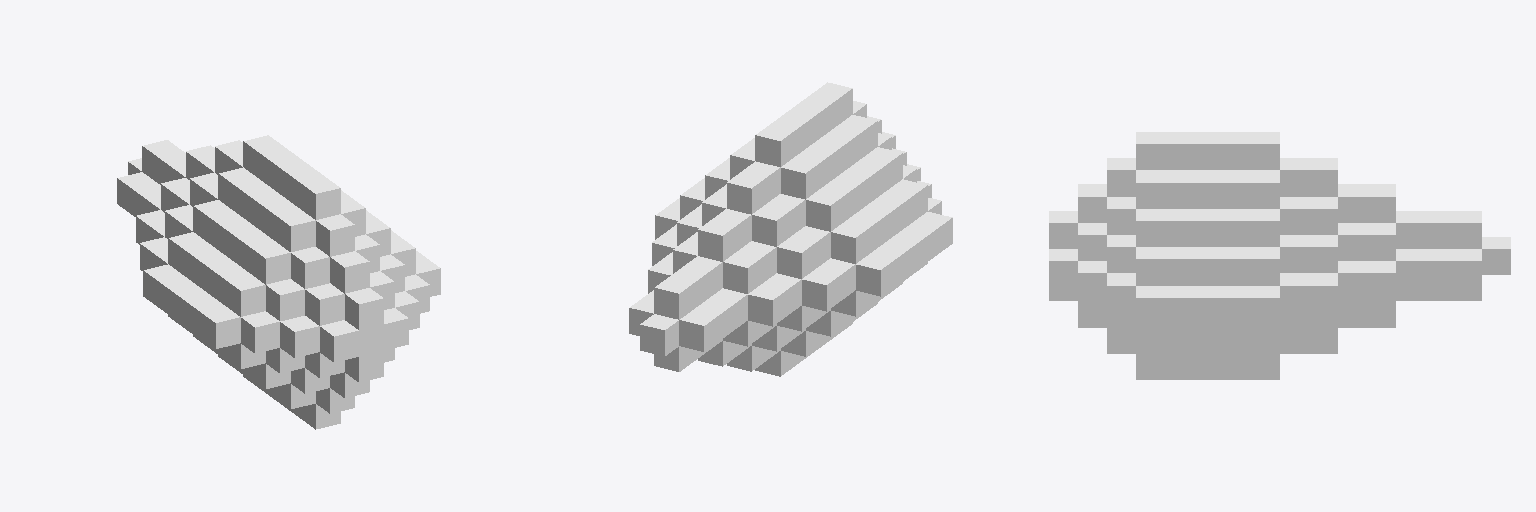
The model's file is acid.obj.
3 renders of one model, left to right at view 1: azimuth 30°, elevation 25°; view 2: azimuth 150°, elevation 25°; view 3: azimuth 270°, elevation 25°, orthographic.
Visible parts, largest first — view 1: object 1; view 2: object 1; view 3: object 1.
Boxes of the visible parts, <box> form: object 1: <box>117,135,440,429</box>; object 1: <box>629,82,952,376</box>; object 1: <box>1049,132,1510,379</box>.
Bounding box in the file's own units: 0.9 × 0.9 × 1.6.